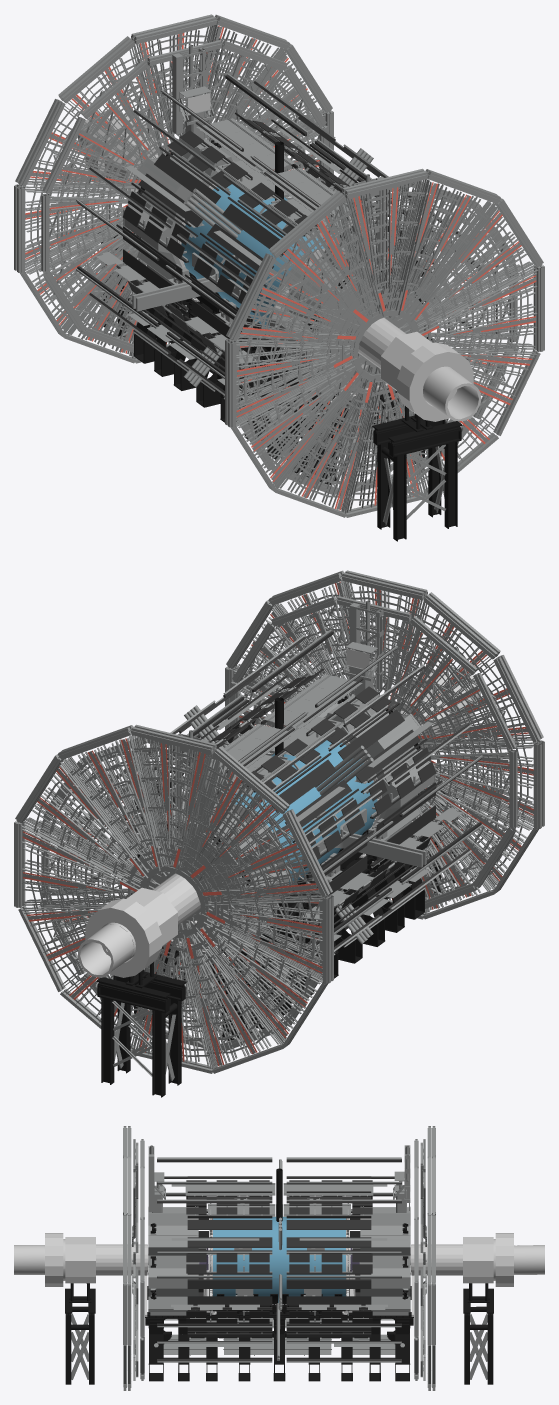
Rendered from atlas.glb.
3 views of the same model, one above another, from view 1: azimuth 30°, elevation 25°; view 2: azimuth 150°, elevation 25°; view 3: azimuth 270°, elevation 25° (orthographic). The views are drawn at different scales.
Parts seen in each view (by area): view 1: Object_35, Object_453, Object_293, Object_20, Object_5257, Object_26; view 2: Object_35, Object_453, Object_293, Object_20, Object_5257, Object_26; view 3: Object_35, Object_453, Object_293, Object_20, Object_26.
Boxes of the visible parts, x1=… form: Object_35: x1=14, y1=14, x2=544, y2=525; Object_453: x1=77, y1=75, x2=478, y2=447; Object_293: x1=97, y1=140, x2=462, y2=541; Object_20: x1=77, y1=93, x2=481, y2=421; Object_5257: x1=25, y1=25, x2=536, y2=510; Object_26: x1=181, y1=184, x2=337, y2=340; Object_35: x1=14, y1=570, x2=544, y2=1080; Object_453: x1=80, y1=631, x2=481, y2=1003; Object_293: x1=96, y1=696, x2=461, y2=1097; Object_20: x1=78, y1=648, x2=480, y2=977; Object_5257: x1=22, y1=581, x2=533, y2=1066; Object_26: x1=221, y1=740, x2=377, y2=896; Object_35: x1=71, y1=1126, x2=487, y2=1390; Object_453: x1=155, y1=1159, x2=403, y2=1361; Object_293: x1=65, y1=1168, x2=493, y2=1384; Object_20: x1=14, y1=1218, x2=544, y2=1316; Object_26: x1=213, y1=1216, x2=345, y2=1302.
Size of the model in its own units: 2.28 by 2.25 by 4.6.
